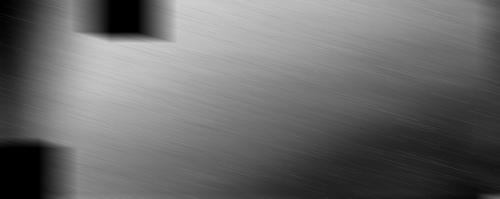Airbag: (0, 0, 500, 199), (491, 0, 500, 199), (0, 197, 500, 199)
